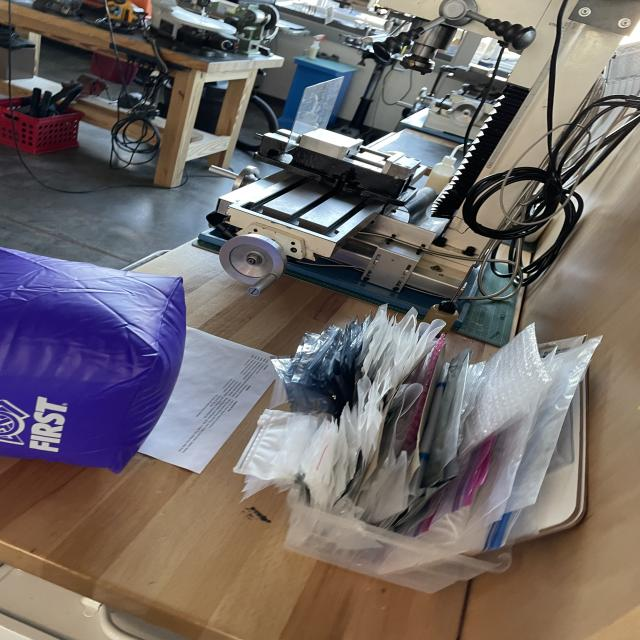frc_cube: (0, 252, 196, 486)
